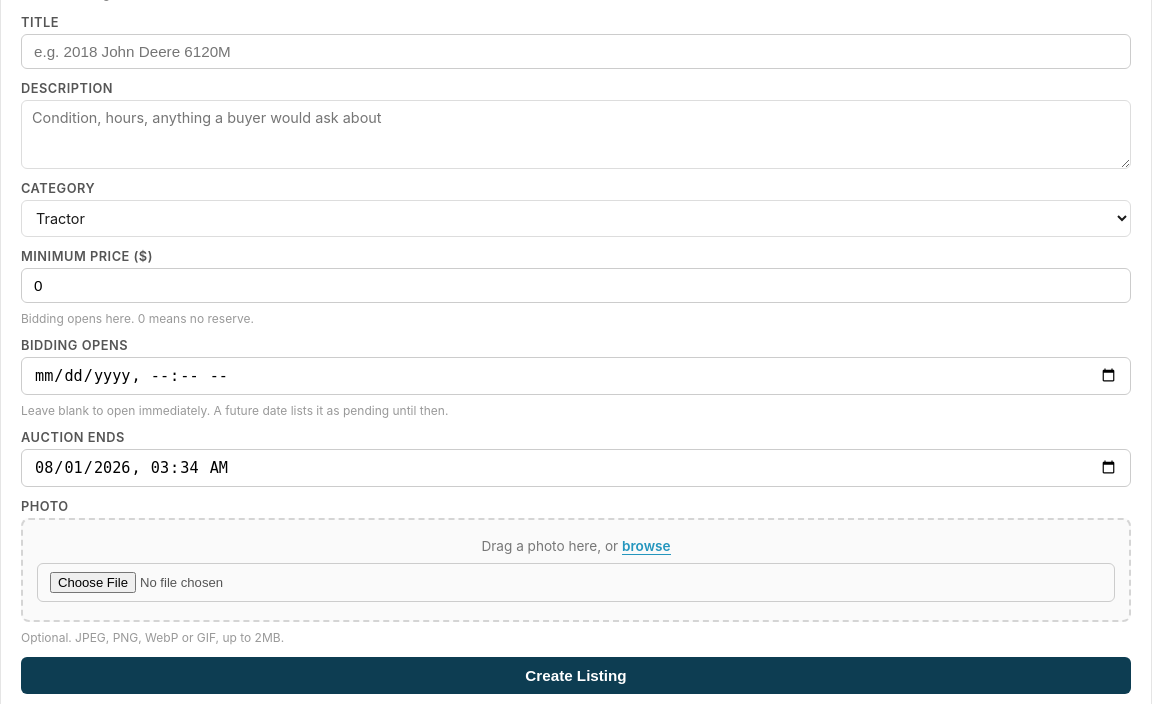
CreateListingForm › requires a title before hitting the network
(page scrolled)
Step 1. Click the button "Create Listing" → (576, 676), box [21,657,1131,694]
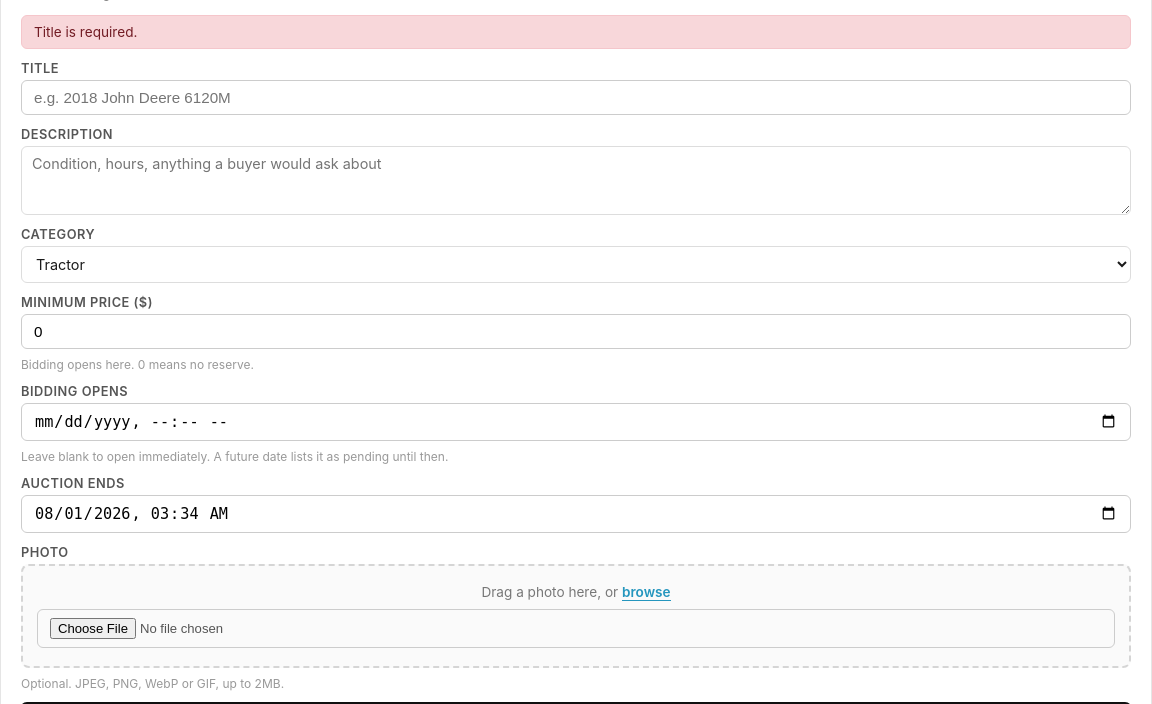
Expected: the text "Title is required." is shown, [21,15,1131,49]
